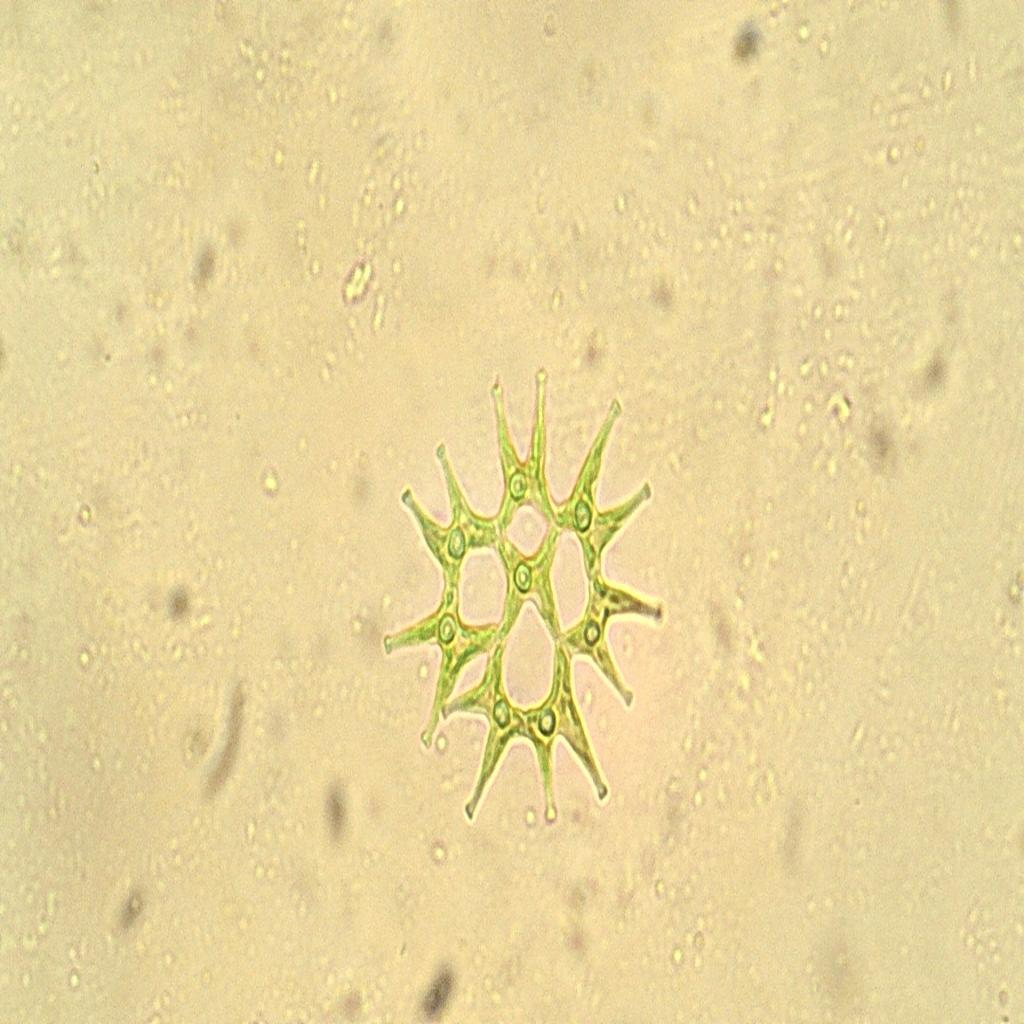Pediastrum_1T: (373, 344, 673, 860)
